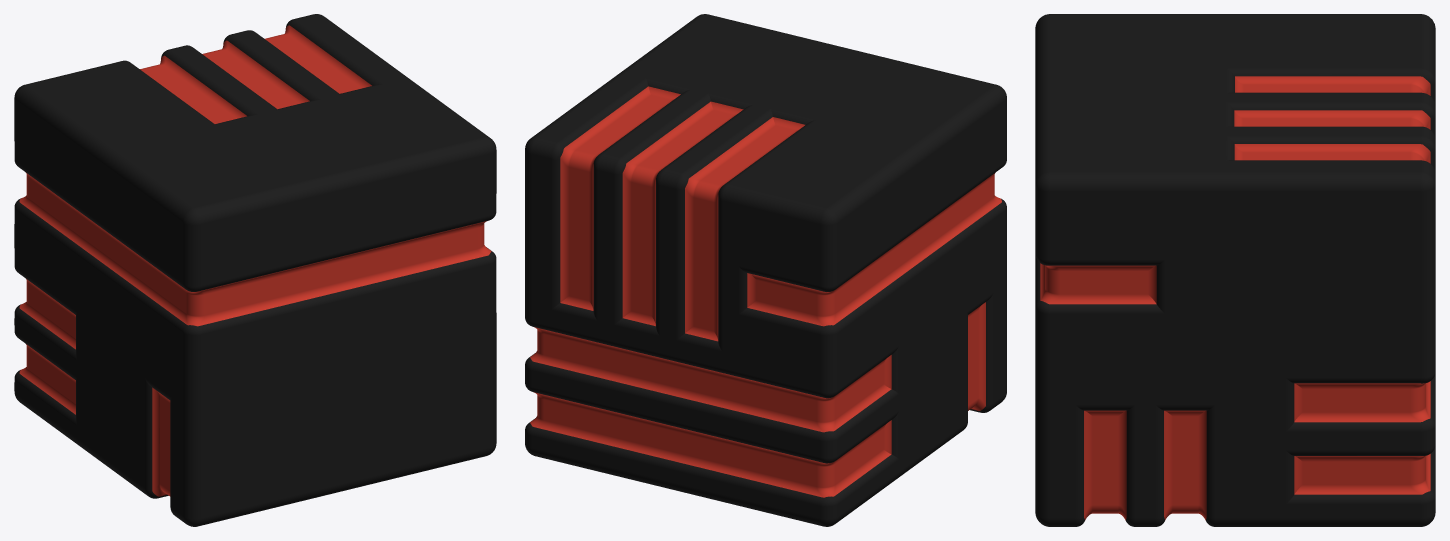
Rendered from line die.fbx.
3 views of the same model, side by side, from view 1: azimuth 30°, elevation 25°; view 2: azimuth 150°, elevation 25°; view 3: azimuth 270°, elevation 25° (orthographic). The views are drawn at different scales.
Parts seen in each view (by area): view 1: Body1; view 2: Body1; view 3: Body1.
Part boxes in pixels (x1,y1,x2,y2): Body1: [14, 14, 496, 526]; Body1: [525, 14, 1006, 526]; Body1: [1035, 14, 1435, 526].
Size of the model in its own units: 20 by 19.5 by 20.
